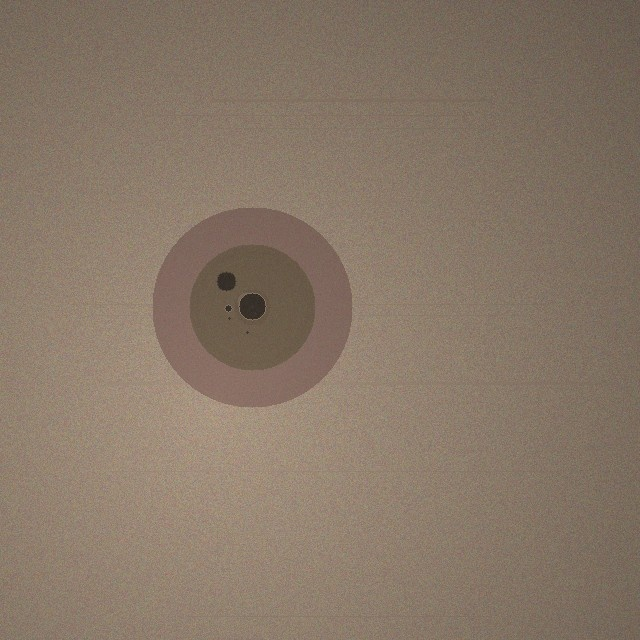shrinkage: (152, 207, 352, 407)
